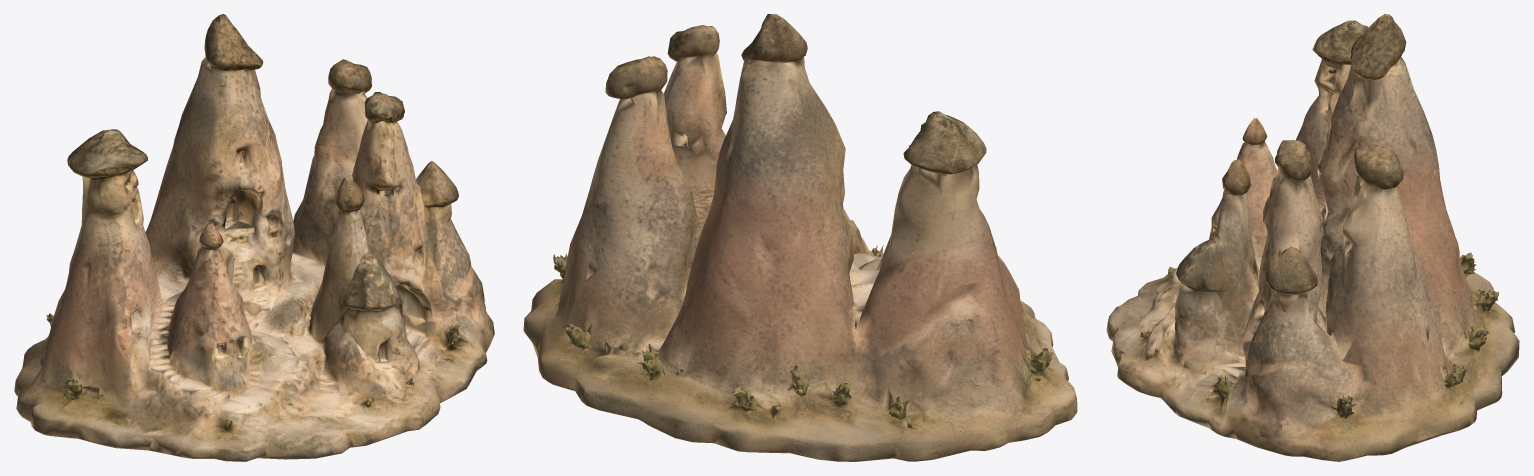
The model's file is city_nevsehir_chimney_ridge.glb.
3 renders of one model, left to right at view 1: azimuth 30°, elevation 25°; view 2: azimuth 150°, elevation 25°; view 3: azimuth 270°, elevation 25°, orthographic. The views are drawn at different scales.
Parts seen in each view (by area): view 1: Mesh1.0; view 2: Mesh1.0; view 3: Mesh1.0.
Part boxes in pixels (box(x1,y1,x2,y2)): Mesh1.0: box(14, 14, 494, 461); Mesh1.0: box(523, 14, 1077, 461); Mesh1.0: box(1106, 14, 1519, 461).
Size of the model in its own units: 14.51 by 10 by 11.24.
Materials: 1 (1 with a texture image).
